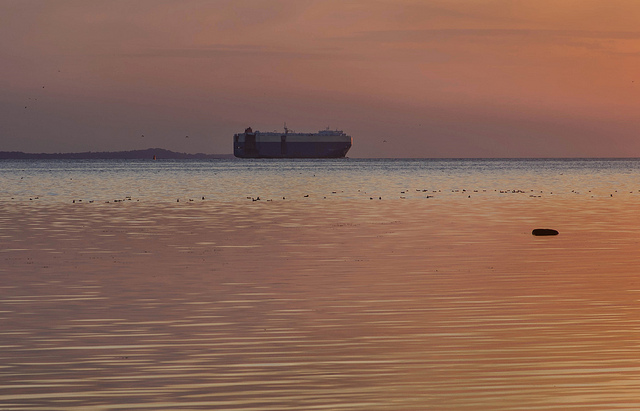PCC: (227, 125, 359, 165)
